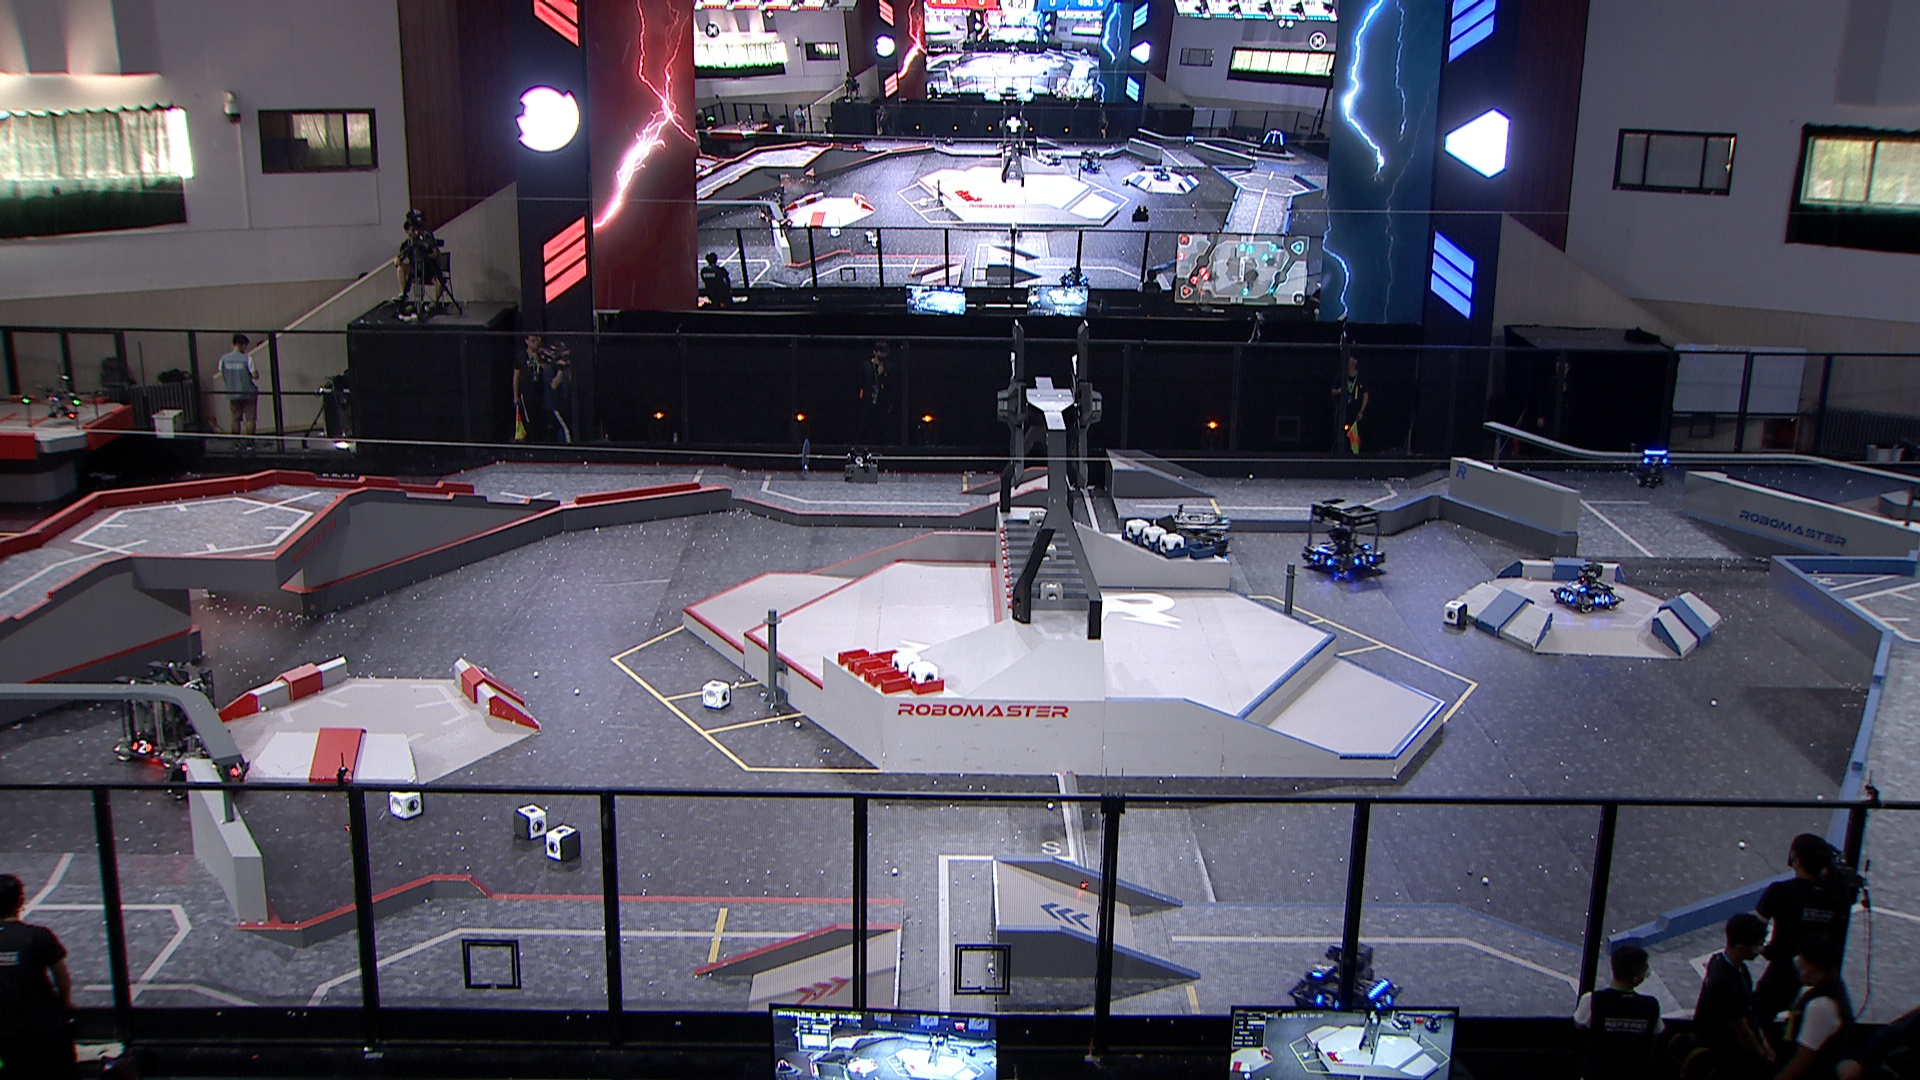armor: (1309, 960, 1333, 981), (1316, 992, 1342, 1010), (131, 740, 153, 757), (1313, 553, 1337, 568), (229, 760, 247, 779), (1567, 579, 1588, 595), (1371, 994, 1395, 1007), (1643, 455, 1669, 467), (1593, 591, 1611, 607), (1352, 555, 1375, 566), (1557, 589, 1575, 604)
car: (111, 659, 222, 764), (1287, 940, 1394, 1021), (1299, 498, 1389, 582), (164, 733, 252, 802), (1160, 510, 1234, 584), (1552, 562, 1627, 616)
ignore: (756, 191, 789, 220), (1059, 266, 1091, 290), (1259, 129, 1287, 154), (1079, 148, 1105, 171), (1154, 164, 1172, 181), (1046, 149, 1063, 167), (781, 216, 795, 235), (1183, 135, 1197, 148)
watcher: (1634, 450, 1671, 491)
